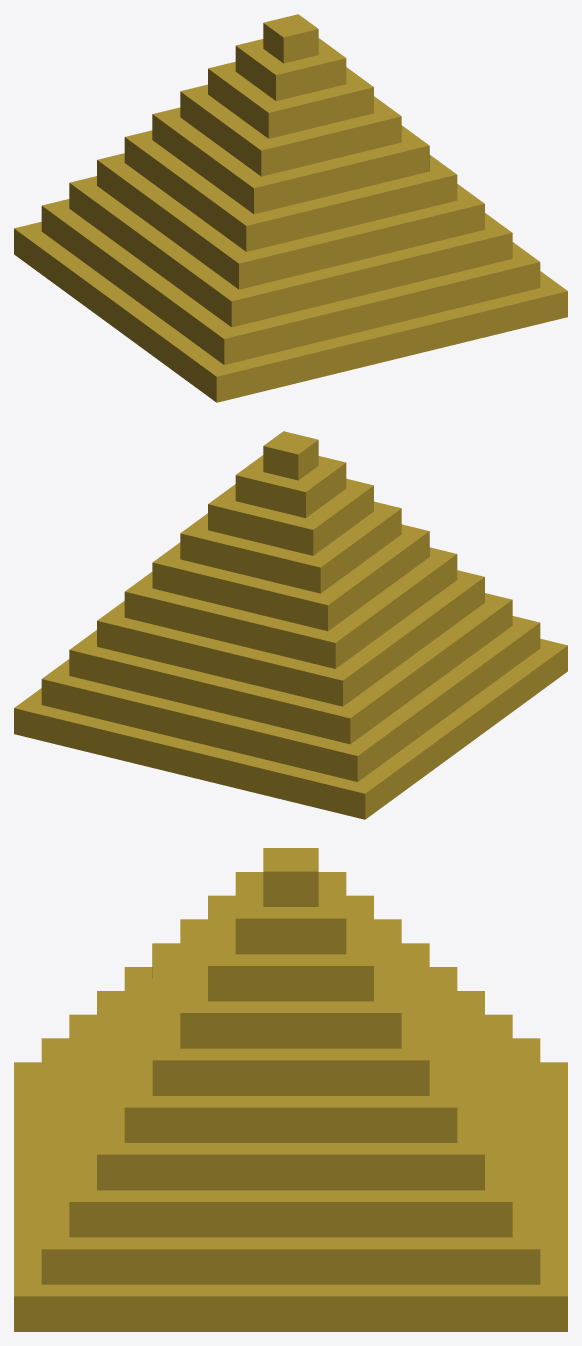
3 views of the same model, one above another, from view 1: azimuth 30°, elevation 25°; view 2: azimuth 150°, elevation 25°; view 3: azimuth 270°, elevation 25° (orthographic). The views are drawn at different scales.
Visible parts, largest first — view 1: Pyramid; view 2: Pyramid; view 3: Pyramid.
Boxes of the visible parts, bbox=[...] form: Pyramid: bbox=[14, 14, 567, 402]; Pyramid: bbox=[14, 431, 567, 819]; Pyramid: bbox=[14, 848, 567, 1331].
Bounding box in the file's own units: 1.41 × 1 × 1.41.
